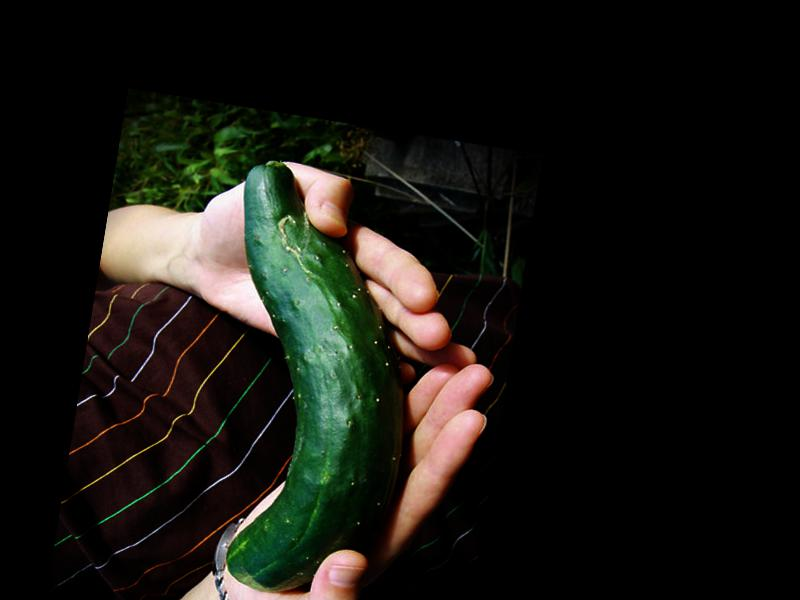Cucumber: (181, 159, 444, 600)
